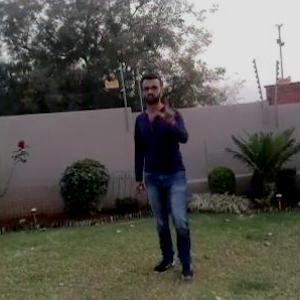land_hand: (153, 90, 182, 126)
